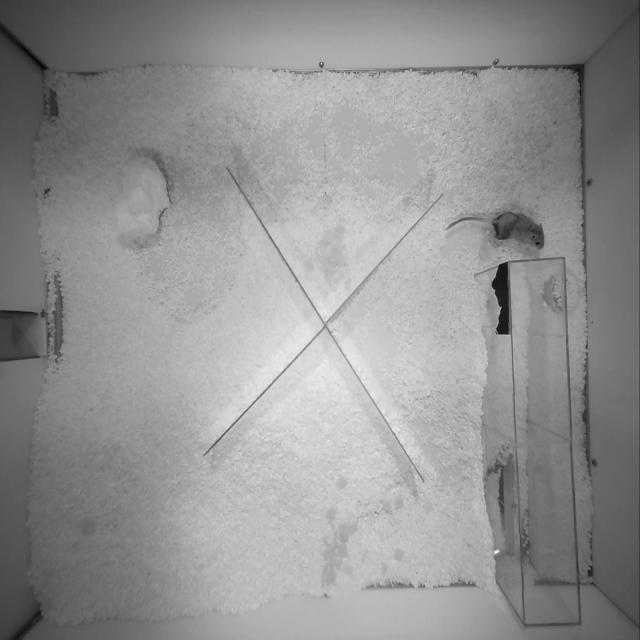adult_back: (445, 211, 544, 249)
